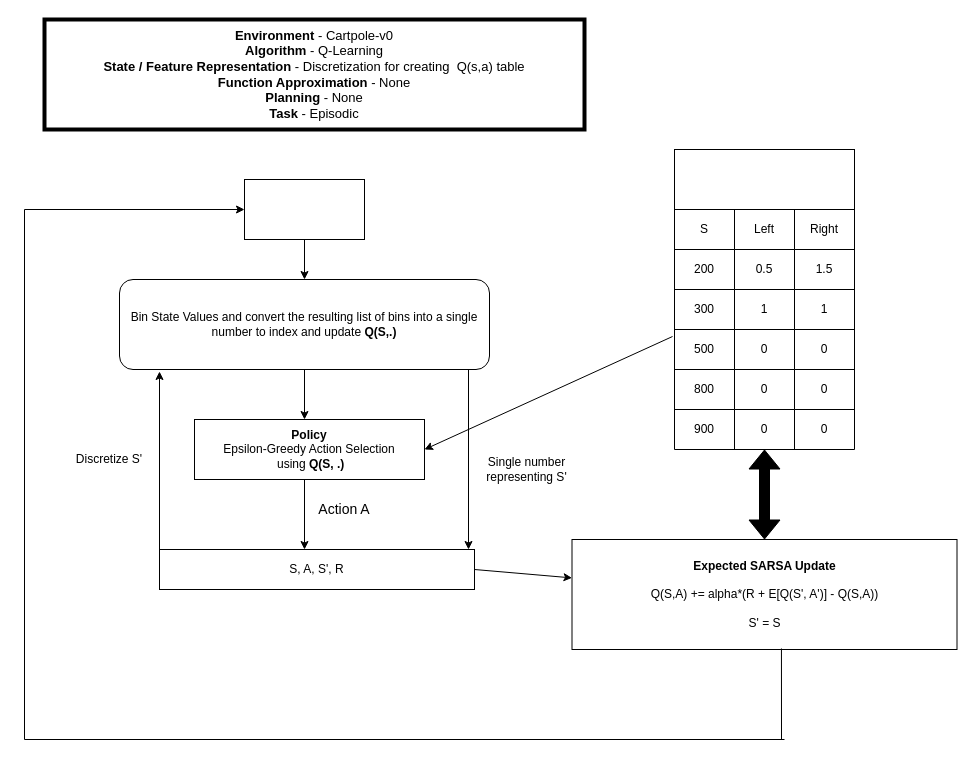
Image size: 975x758. Some labels were removed from this diagram. Each missing label, with the box of its shape:
Q(s,a): (674, 148, 854, 210)
State S (pos, cv, ang, tv): (244, 178, 364, 240)
